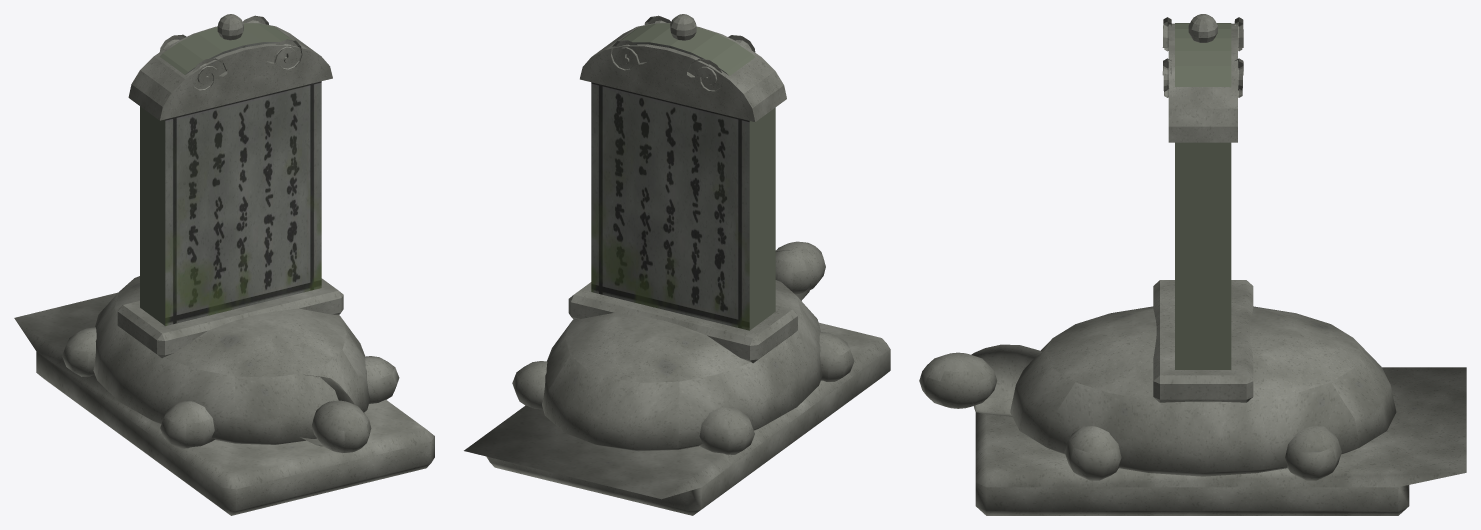
The model's file is stone_stele.glb.
3 views of the same model, side by side, from view 1: azimuth 30°, elevation 25°; view 2: azimuth 150°, elevation 25°; view 3: azimuth 270°, elevation 25° (orthographic). The views are drawn at different scales.
Visible parts, largest first — view 1: SteleTortoise, SteleTablet, SteleCrest, SteleSocket; view 2: SteleTortoise, SteleTablet, SteleCrest, SteleSocket; view 3: SteleTortoise, SteleTablet, SteleSocket, SteleCrest.
Part boxes in pixels (x1,y1,x2,y2): SteleTortoise: (14,276,434,515); SteleTablet: (140,23,321,325); SteleCrest: (128,14,332,120); SteleSocket: (117,278,343,358); SteleTortoise: (464,241,890,515); SteleTablet: (591,23,775,330); SteleCrest: (580,14,786,121); SteleSocket: (568,282,797,363); SteleTortoise: (919,306,1466,515); SteleTablet: (1175,23,1231,369); SteleSocket: (1153,280,1253,402); SteleCrest: (1162,14,1243,142).
Size of what is drawn, in the model's own units: 1.36 by 2.28 by 2.53.
Materials: 2 (2 with a texture image).
